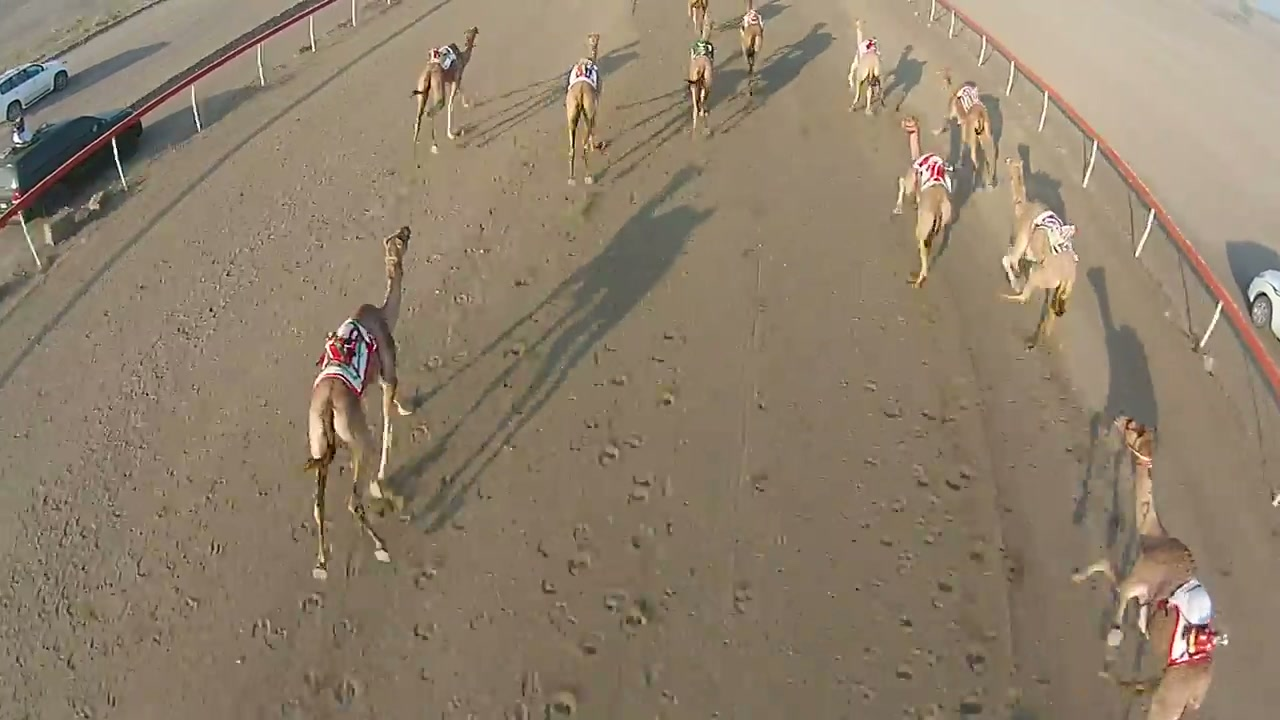animal_footprint: (375, 218, 619, 693), (473, 272, 719, 717), (810, 367, 1019, 718), (226, 535, 378, 717)
